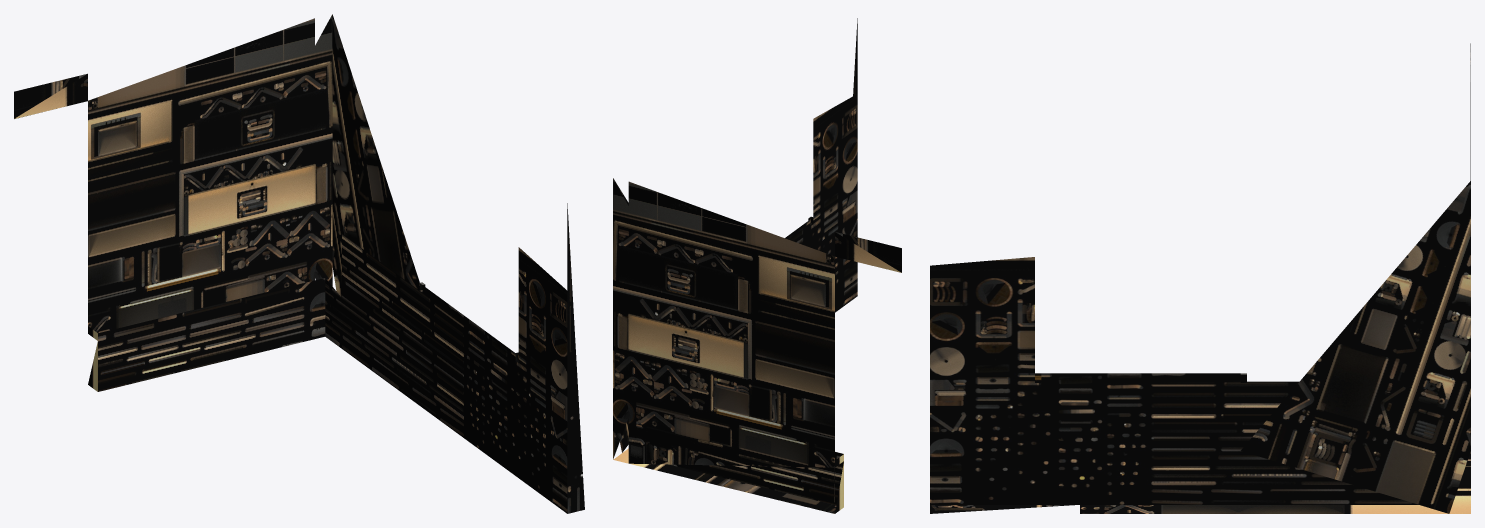
The model's file is simple_house_-_kitchen_3.obj.
The picture shows the model from 3 angles, left to right: view 1: azimuth 30°, elevation 25°; view 2: azimuth 150°, elevation 25°; view 3: azimuth 270°, elevation 25°; orthographic projection. The views are drawn at different scales.
Size of the model in its own units: 3.64 by 3.4 by 5.
